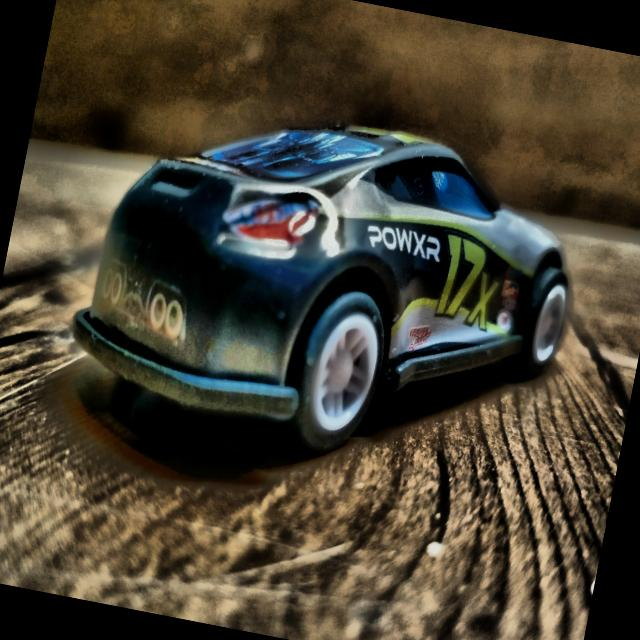Car: (59, 81, 593, 491)
